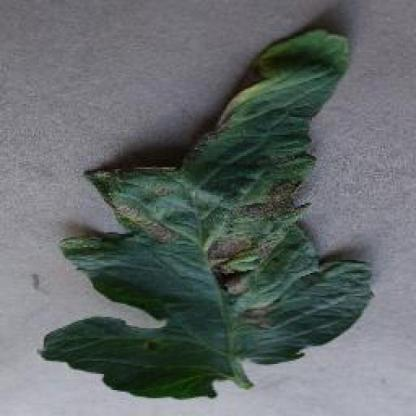Tomato_Blight: (40, 31, 368, 398)
